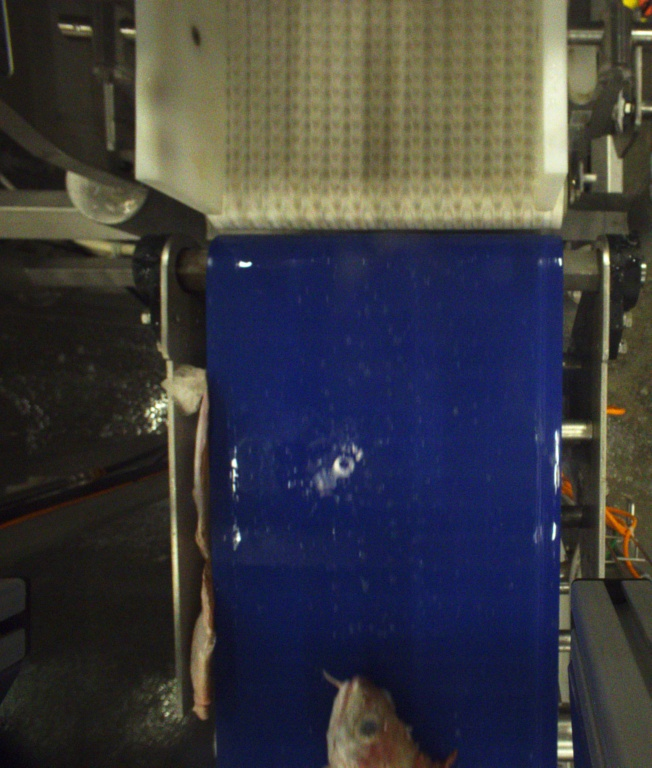BIB: (316, 669, 453, 768)
